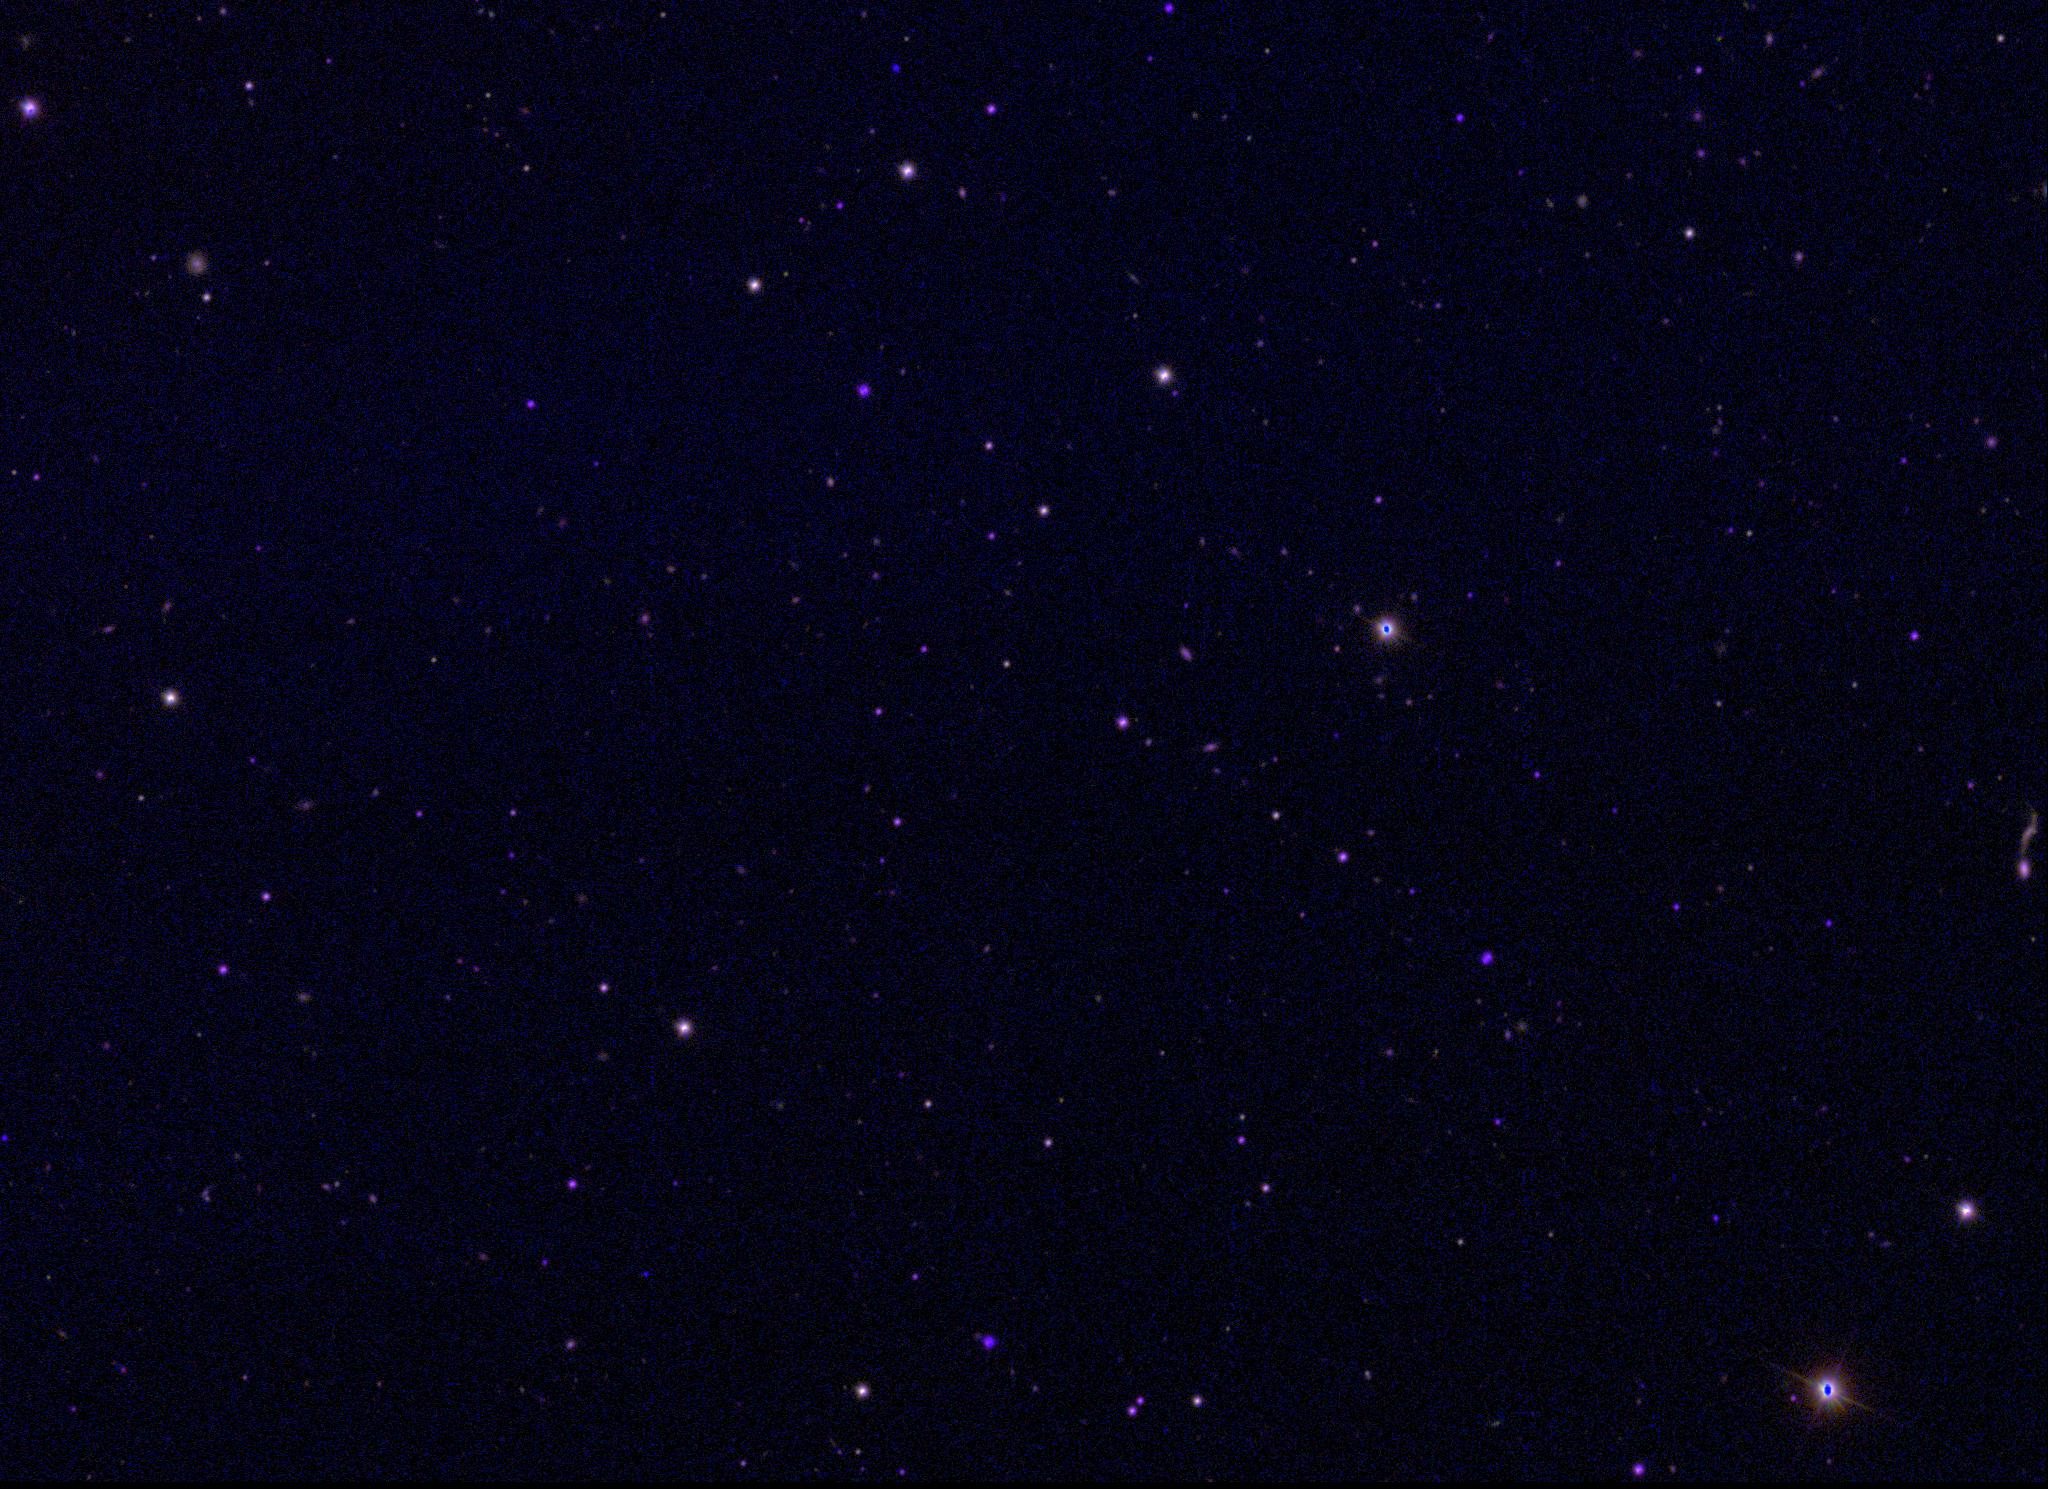L: (890, 60, 905, 75)
